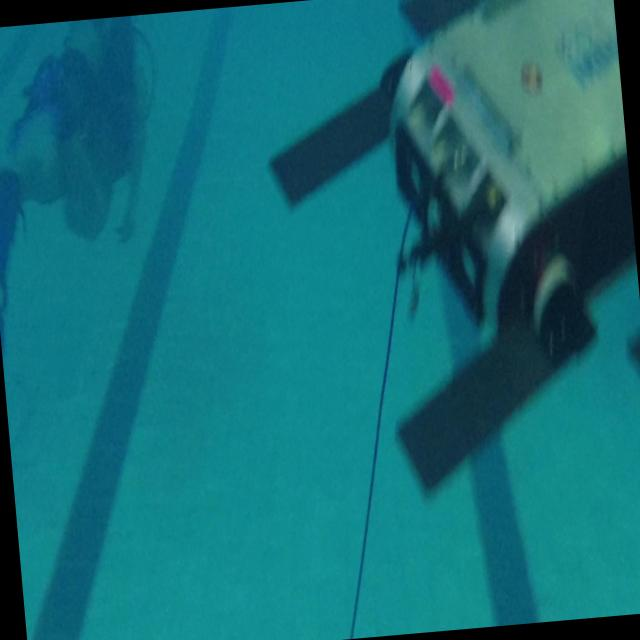human: (0, 13, 179, 356)
